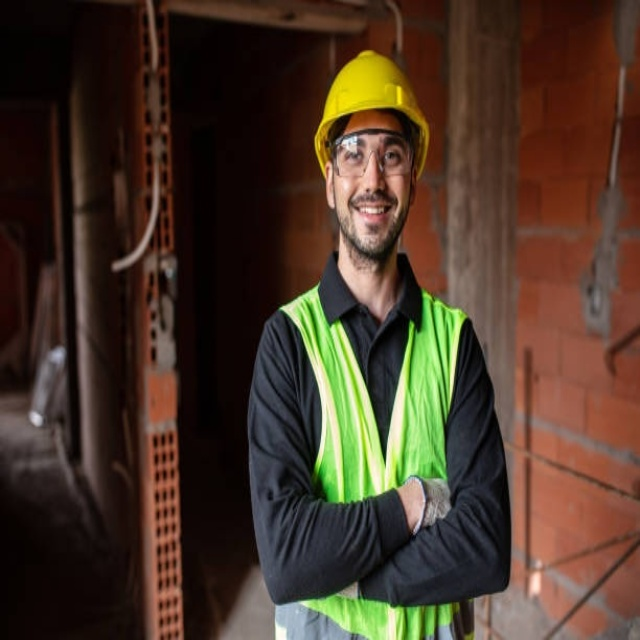Gafas: (330, 132, 415, 178)
Sin_mascara: (346, 188, 398, 240)
